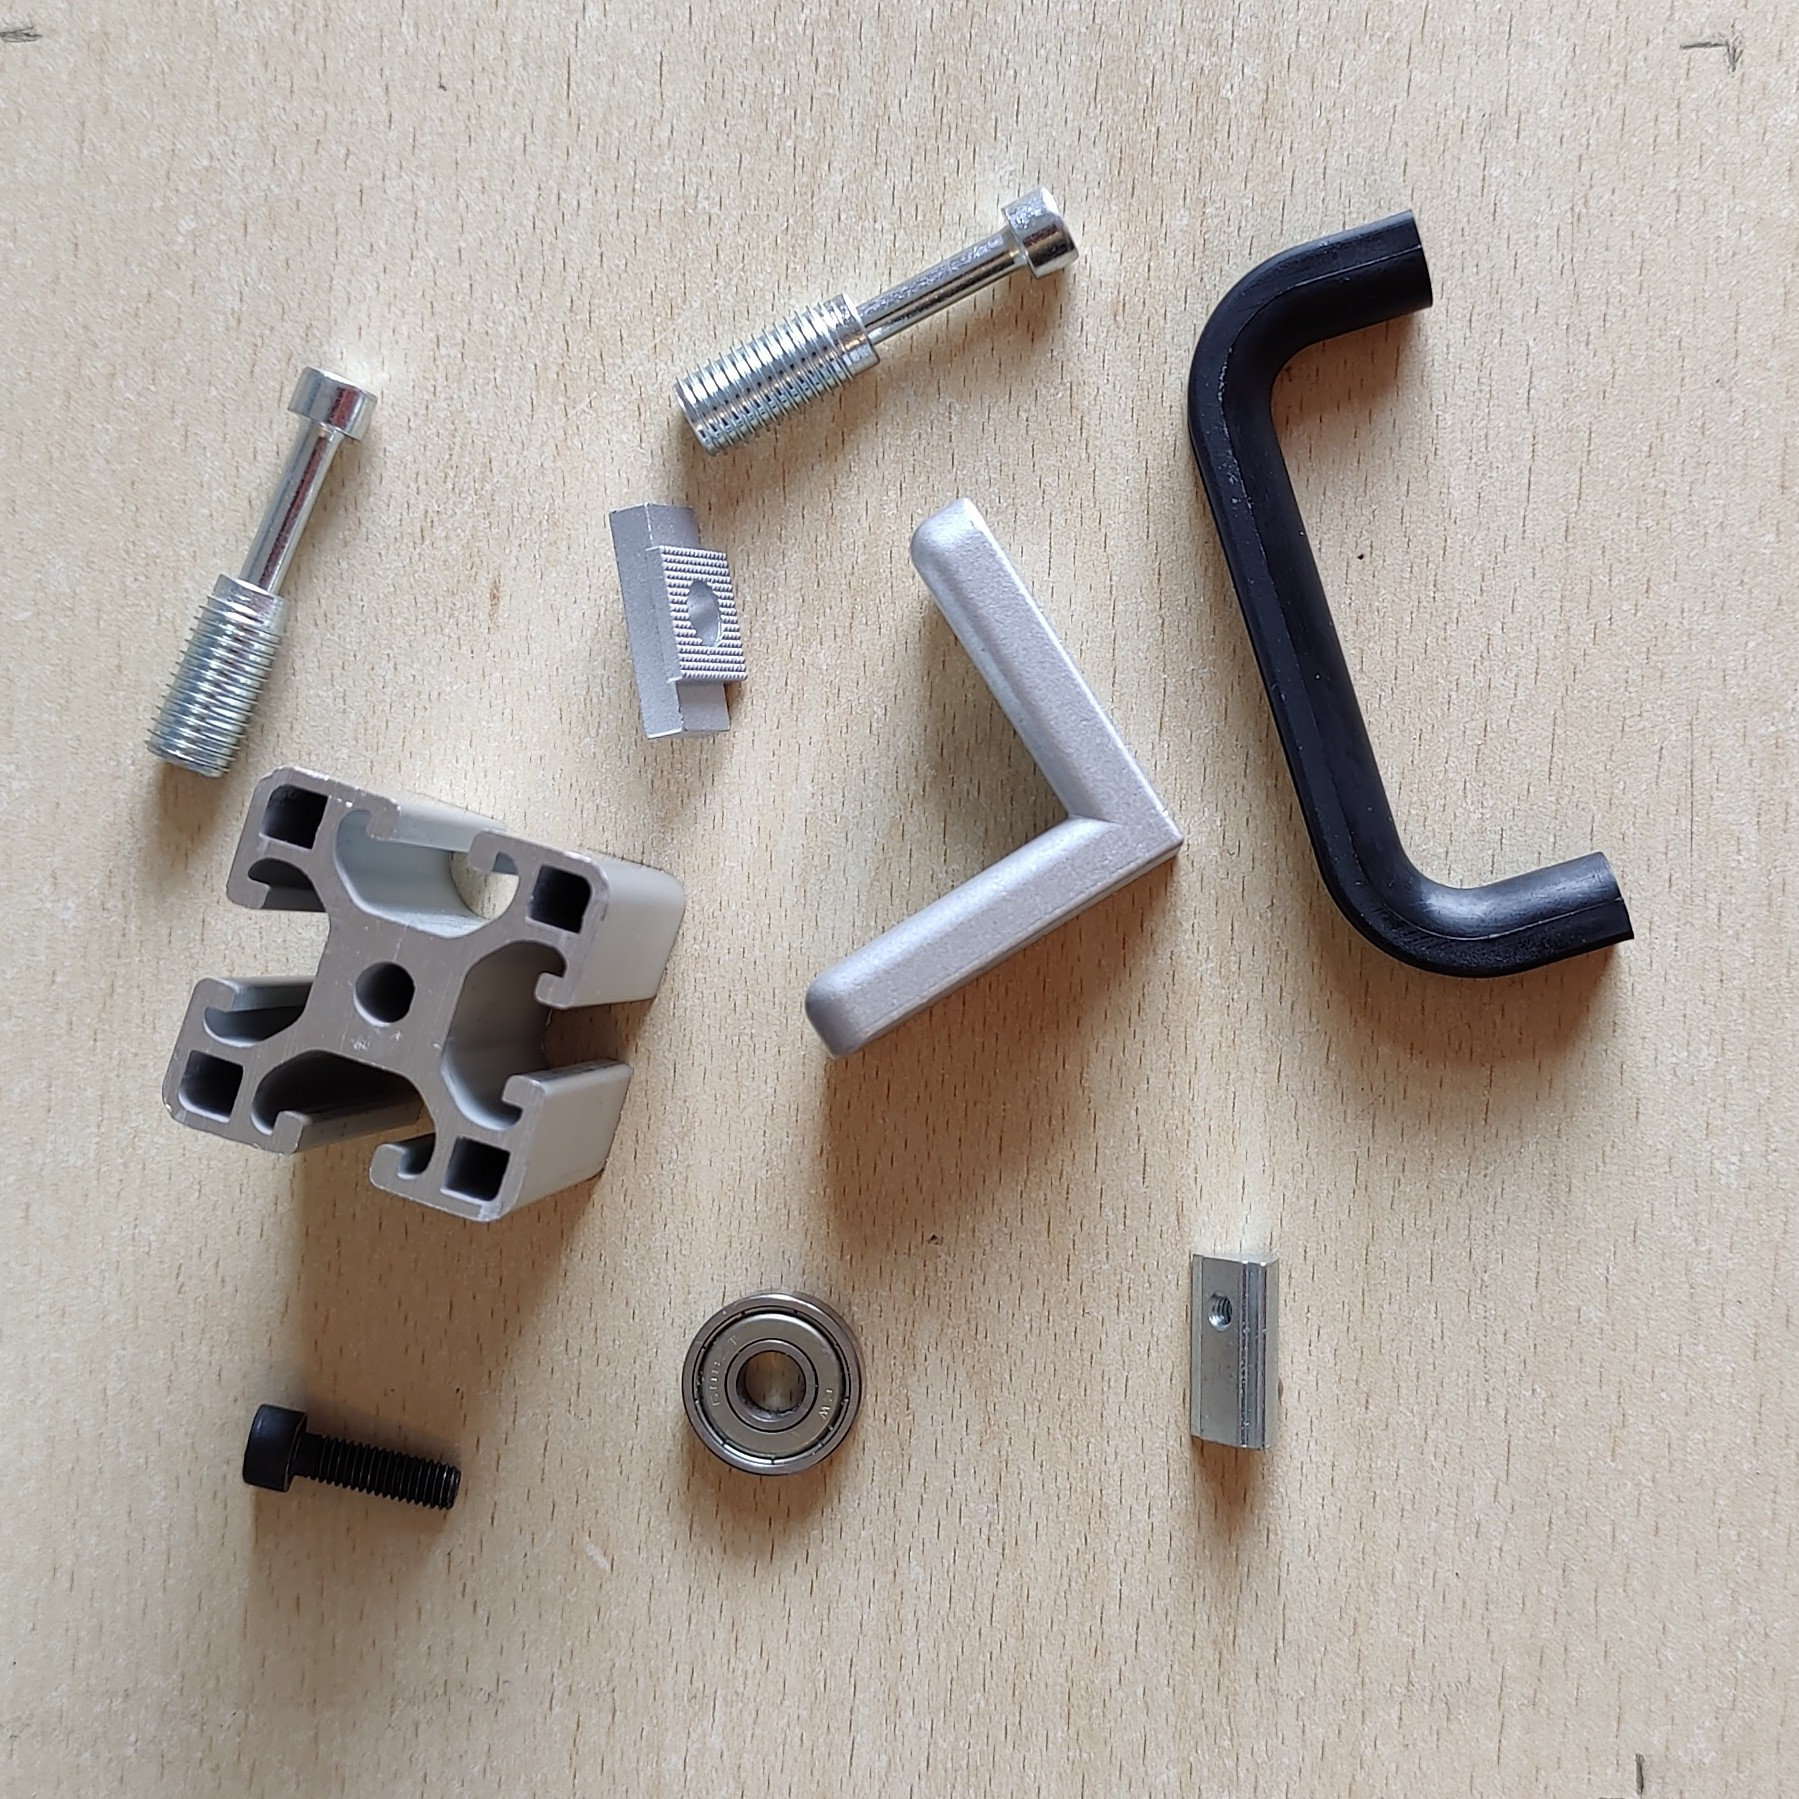Aluminium Extension: (160, 764, 689, 1227)
Ball Bearing: (677, 1283, 868, 1479)
Multiwinkel: (802, 494, 1188, 1064)
Pull Handle: (1185, 206, 1639, 980)
Shoulder Socket Head Cap Screw: (669, 183, 1081, 460), (142, 361, 381, 781)
Socket Head Cap Screw: (237, 1400, 465, 1514)
T Nut Square: (605, 501, 751, 741)
T Spring Nut: (1185, 1245, 1285, 1453)
